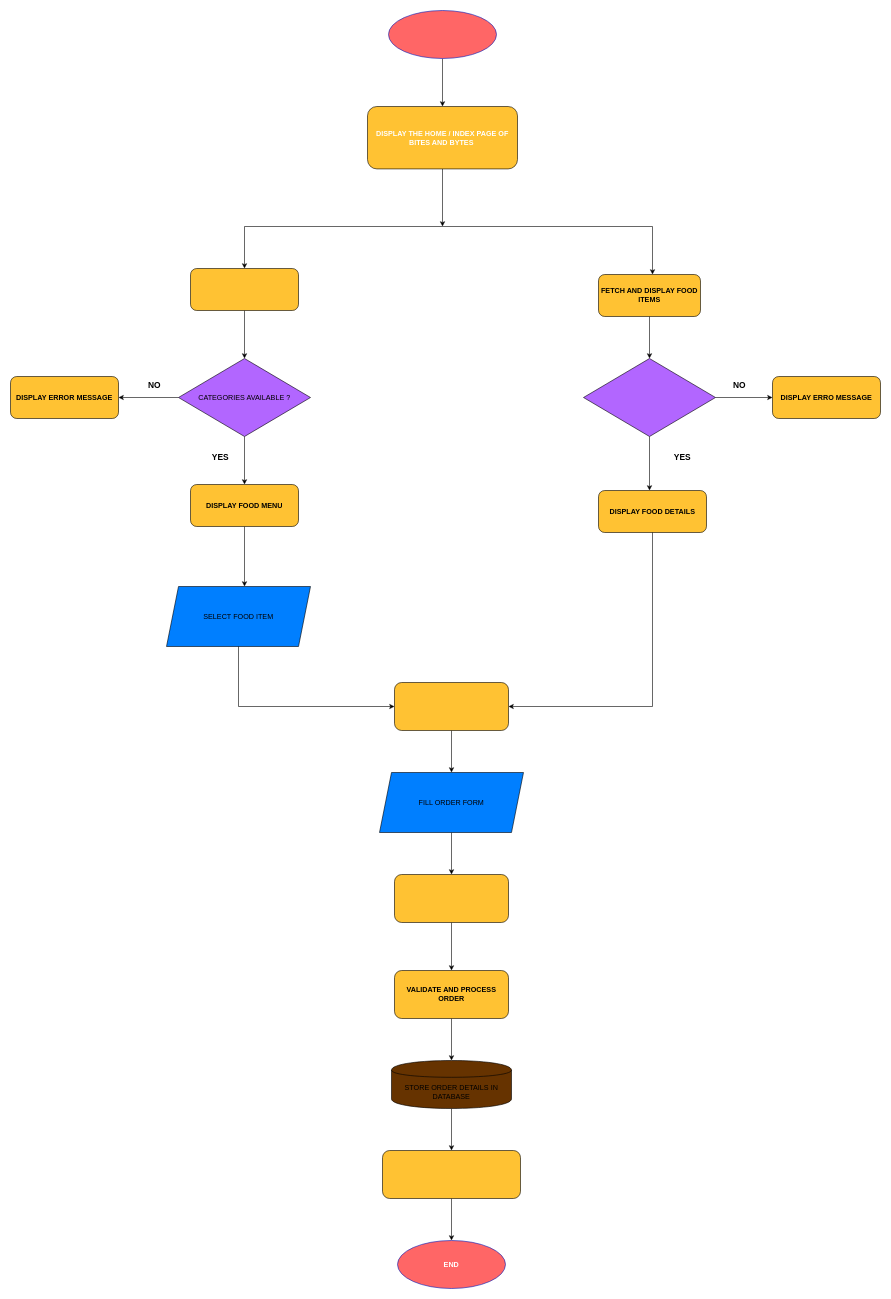
Some shapes in this 891 by 1299 pixel diagram are drawn without their labels. The shapes that lost their labels are listed below. From the top down, each one's centre as x and y in pixels, then its label:
point 442,34: START
point 244,289: FETCH AND DISPLAY CATEGORIES
point 649,397: FOOD DETAILS AVAILABLE ?
point 451,706: ORDER PAGE
point 451,898: SUBMIT ORDER FORM
point 451,1174: REDIRECT TO HOME PAGE WITH SUCCESS / ERROR MESSAGE
